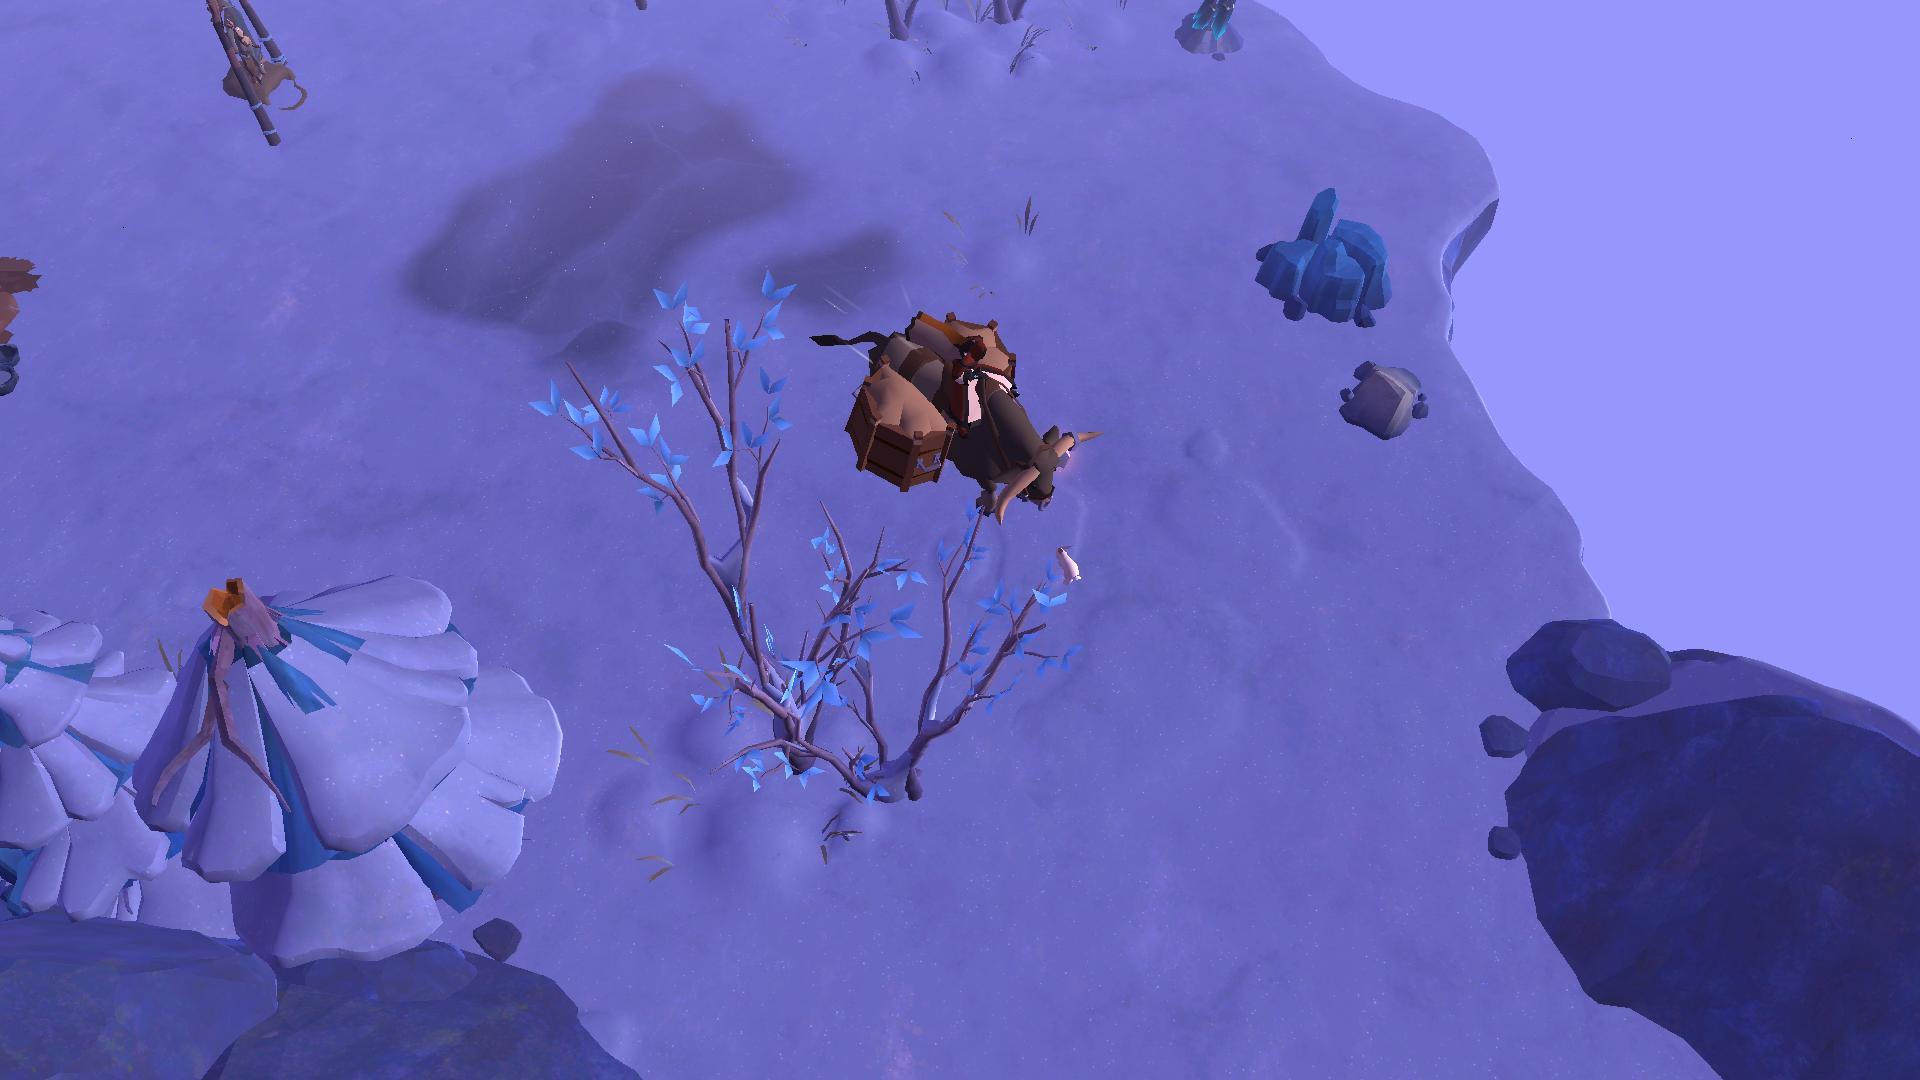ore_t4: (1188, 0, 1245, 38)
rock_t4: (1263, 185, 1399, 332)
